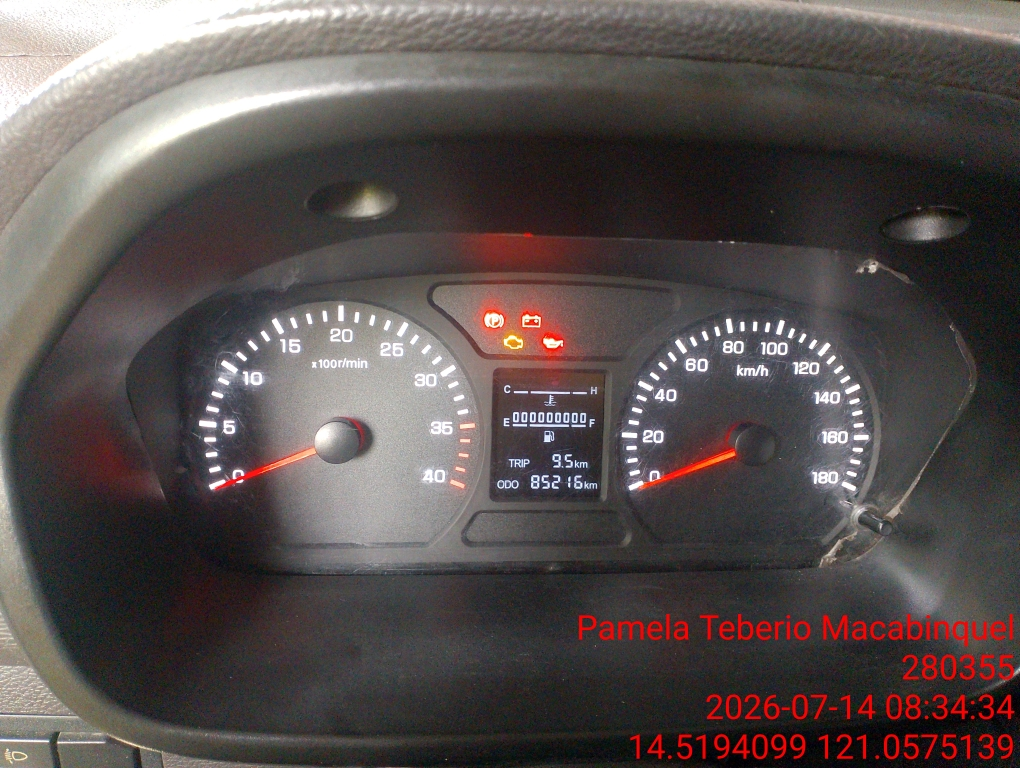grid_pose: (100, 36, 585, 427)
